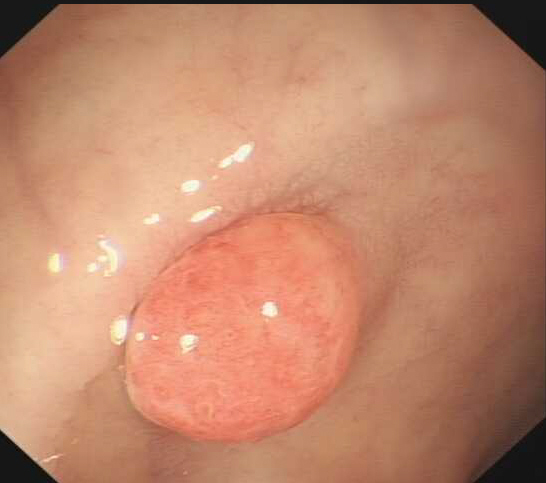others: (119, 208, 377, 446)
